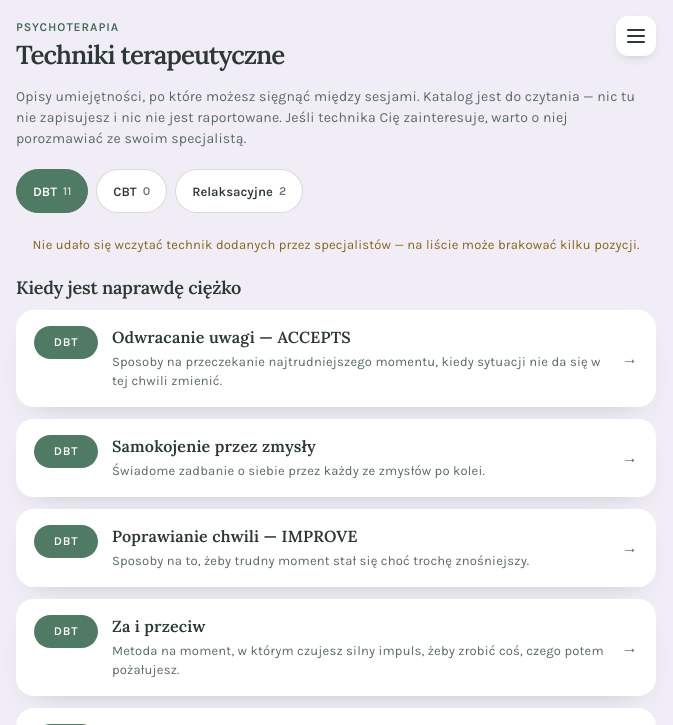
Scenario: CBT tab › exists, is empty, and says why
The image size is (673, 725).
Click the button "CBT 0". click: {"x": 132, "y": 191}
box: [96, 169, 167, 213]
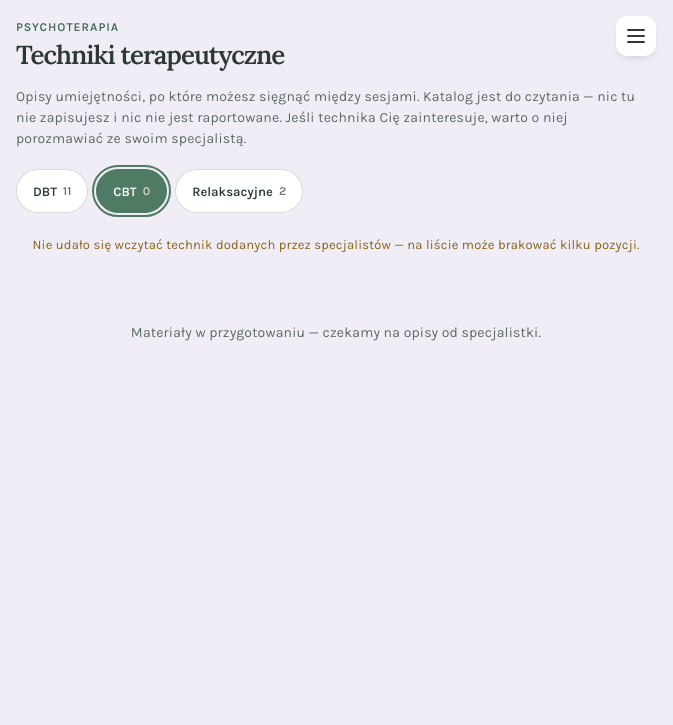
Now the text "Materiały w przygotowaniu" is shown, box [131, 324, 541, 341]
Now the link is gone
